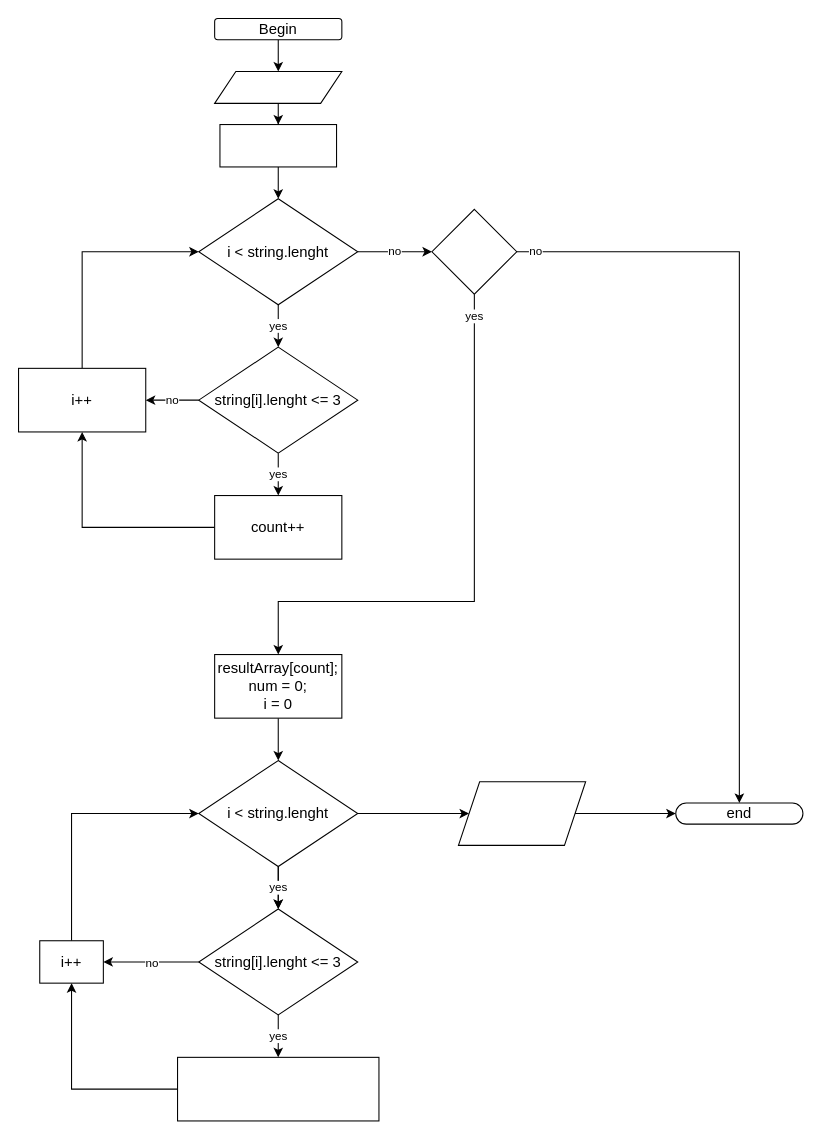
Image size: 821x1139. Some labels were removed from this diagram. The centre of each missing label's shape, as x and y in pixels:
count > 0: (474,251)
i = 0; count = 0;: (278,145)
resultArray: (521,813)
resultArray[num] = string[i]; num++: (277,1088)
string[]: (278,86)
